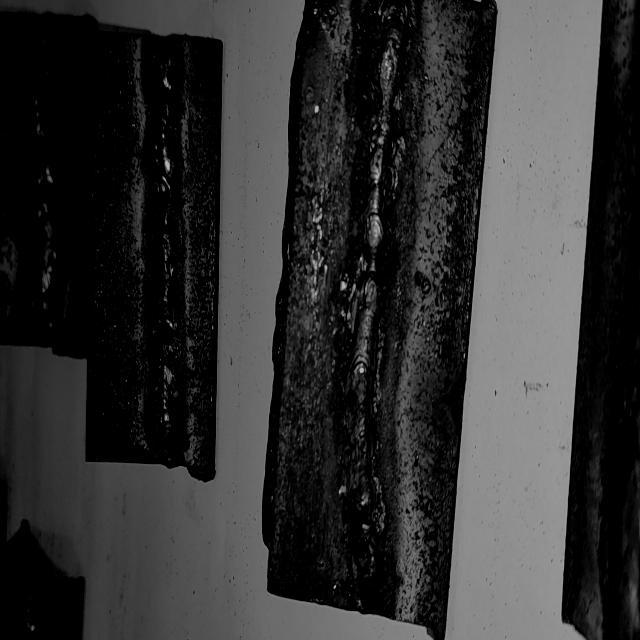Defect: (148, 51, 178, 448), (334, 472, 396, 608), (18, 138, 65, 212)
Welding Line: (346, 11, 408, 594), (154, 54, 178, 438), (32, 26, 54, 322)
Workpiece: (273, 0, 492, 614), (90, 39, 220, 458), (1, 11, 97, 339)
